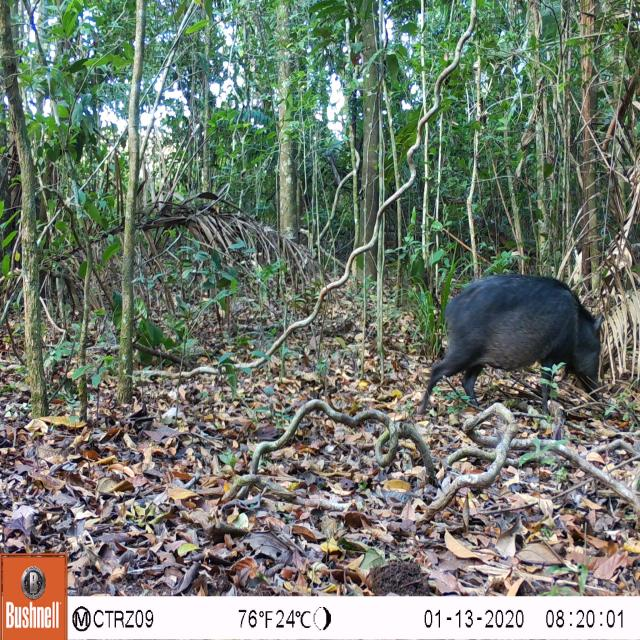White-lipped Peccary: (422, 266, 618, 421)
